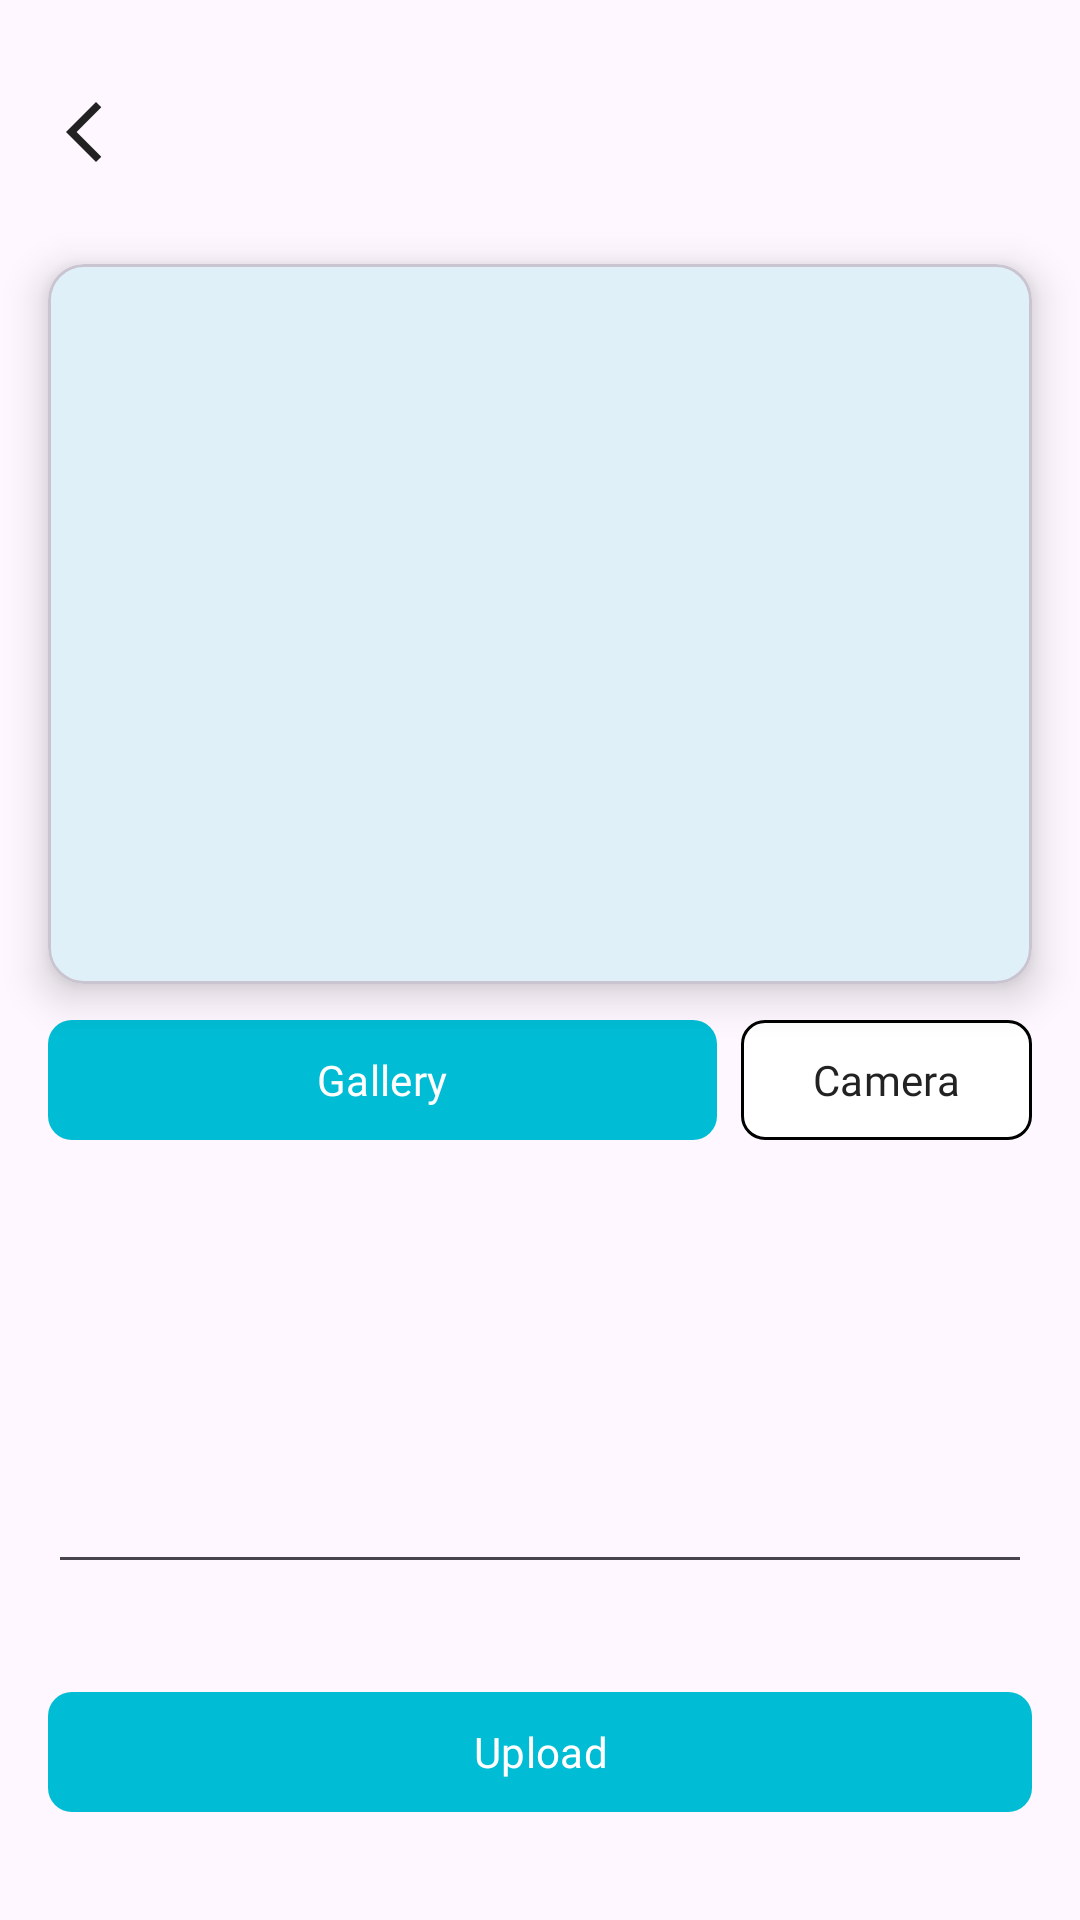

Icons on this 1080*1920 Android screen, each with its box as (x1, y1, x2, y2):
back: (66, 102, 101, 162)
